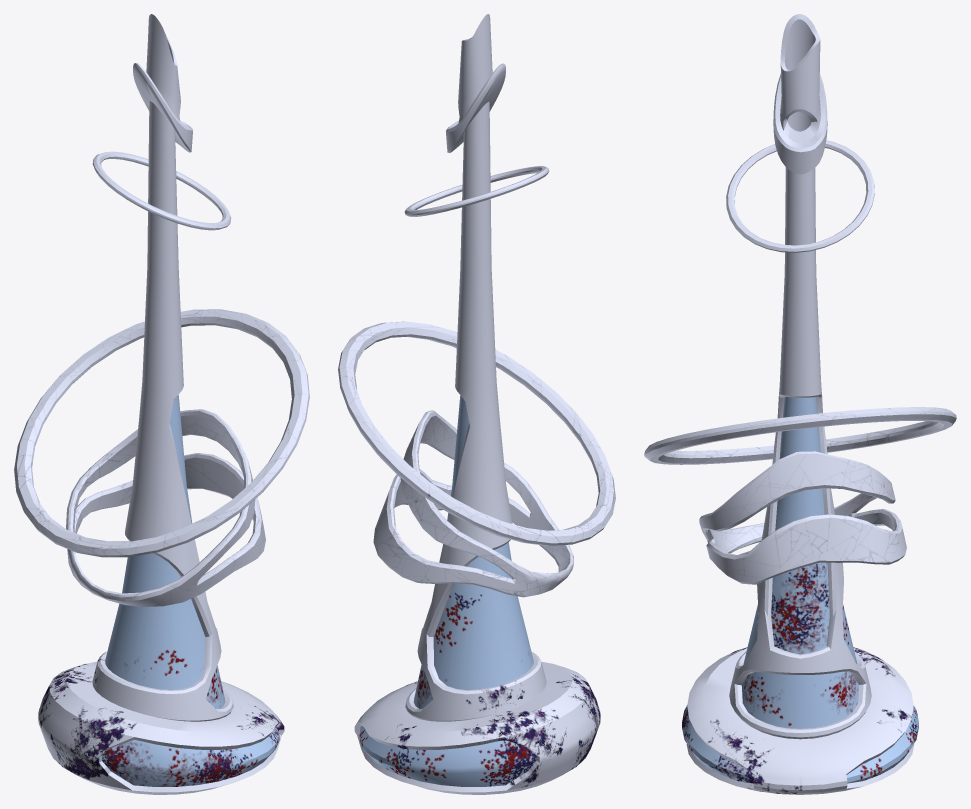
Rendered from building.fbx.
3 views of the same model, side by side, from view 1: azimuth 30°, elevation 25°; view 2: azimuth 150°, elevation 25°; view 3: azimuth 270°, elevation 25° (orthographic).
Visible parts, largest first — view 1: Cylinder, Cylinder.001, Cylinder.002, Cylinder.003; view 2: Cylinder, Cylinder.002, Cylinder.001, Cylinder.003; view 3: Cylinder, Cylinder.002, Cylinder.001, Cylinder.003.
Boxes of the visible parts, box(x1,y1,x2,y2) form: Cylinder: box(38, 14, 284, 794); Cylinder.001: box(14, 309, 309, 557); Cylinder.002: box(66, 409, 265, 606); Cylinder.003: box(92, 151, 231, 230); Cylinder: box(354, 14, 600, 794); Cylinder.002: box(373, 410, 573, 597); Cylinder.001: box(338, 321, 615, 545); Cylinder.003: box(404, 166, 549, 216); Cylinder: box(682, 14, 918, 794); Cylinder.002: box(699, 451, 906, 584); Cylinder.001: box(644, 407, 956, 464); Cylinder.003: box(726, 140, 874, 252).
Size of the model in its own units: 3138 by 9272 by 3573.
